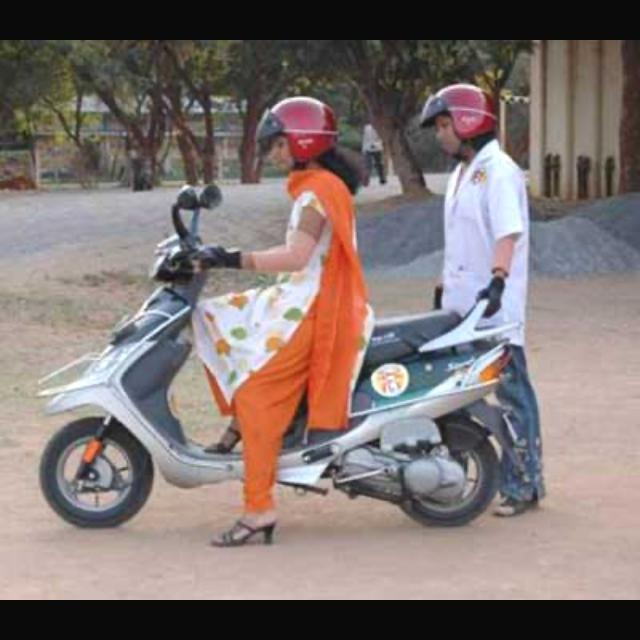With Helmet: (248, 90, 346, 182), (409, 80, 507, 166)
